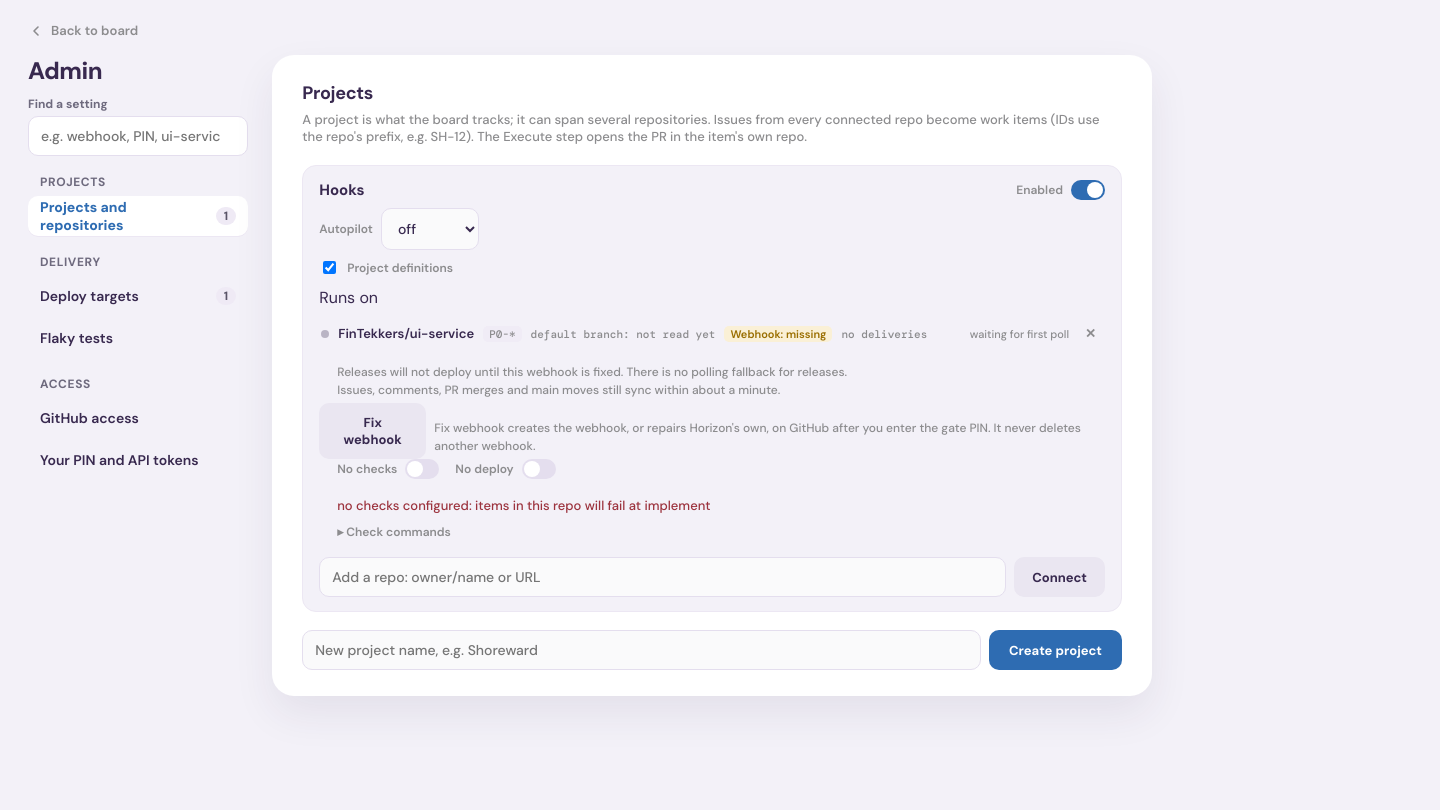
Test: Fix webhook says what it does, before and after the PIN form opens
Expected: the text "Fix webhook creates the webhook, or repairs Horizon's own, on GitHub after you enter the gate PIN. It never deletes anot" is shown, [434,420,1081,454]
Click the button "Fix webhook": (373, 431) [319,403,426,459]
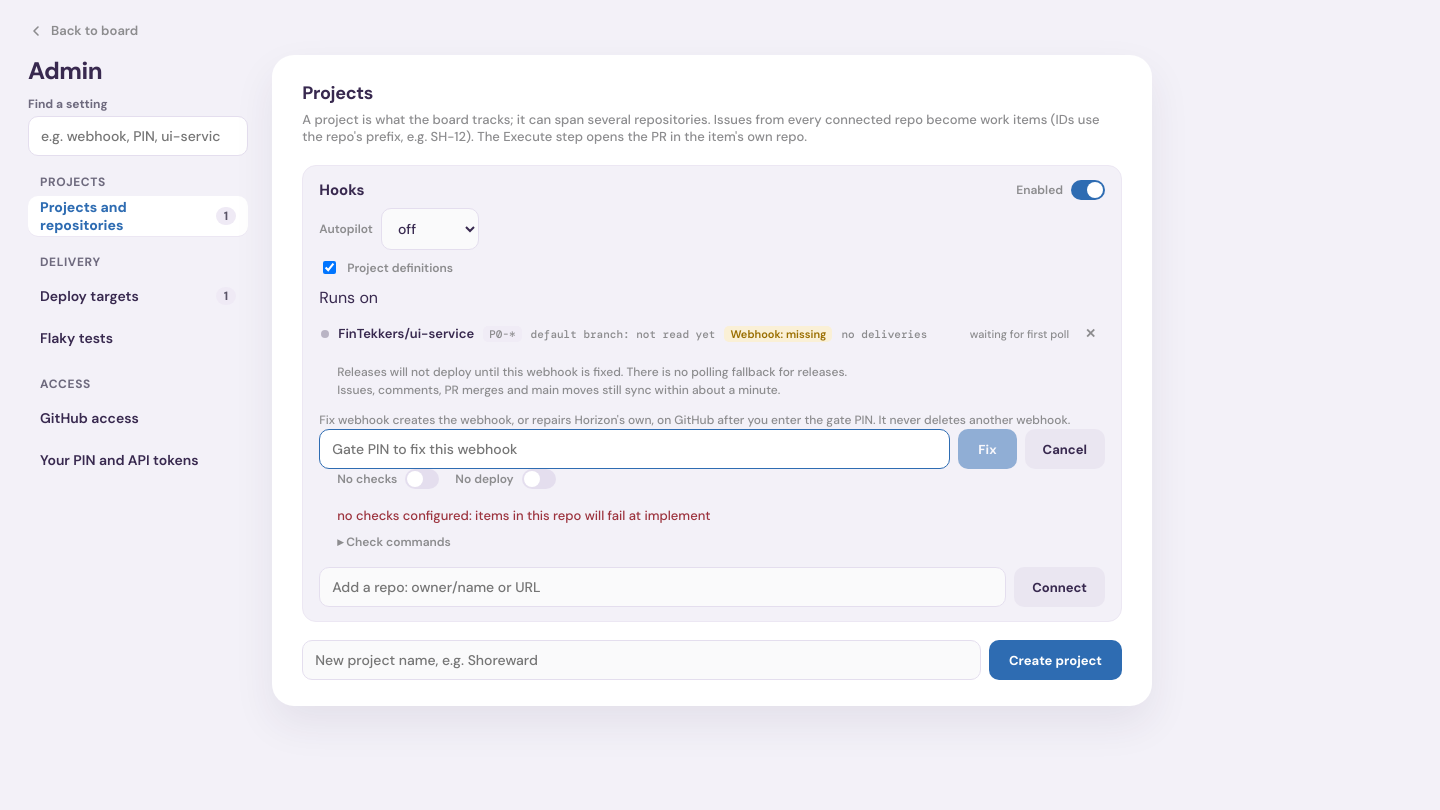
Expected: the text "Fix webhook creates the webhook, or repairs Horizon's own, on GitHub after you enter the gate PIN. It never deletes anot" is shown, [319,412,1070,428]
Result: the password field named "Gate PIN to fix the FinTekkers/ui-service webhook" is shown at [319,429,950,469]
